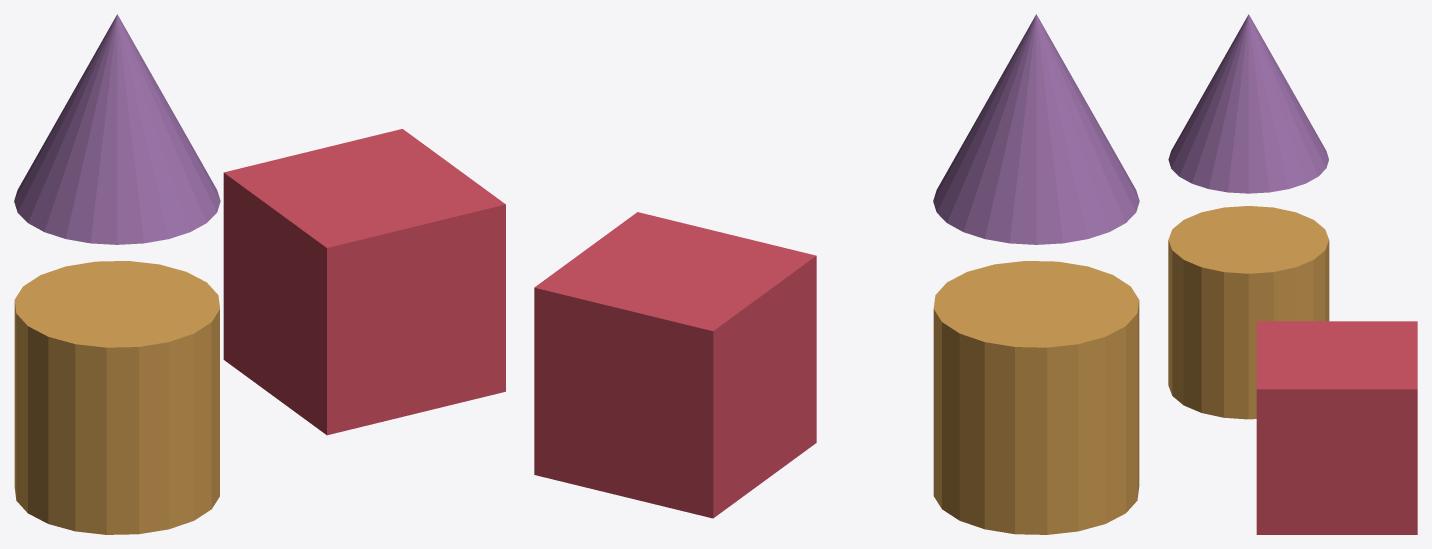
The model's file is asset.glb.
The picture shows the model from 3 angles, left to right: view 1: azimuth 30°, elevation 25°; view 2: azimuth 150°, elevation 25°; view 3: azimuth 270°, elevation 25°; orthographic projection. The views are drawn at different scales.
Parts seen in each view (by area): view 1: Mesh_Mesh_head_geo.001_lambert2SG.001; view 2: Mesh_Mesh_head_geo.001_lambert2SG.001; view 3: Mesh_Mesh_head_geo.001_lambert2SG.001.
Part boxes in pixels (x1,y1,x2,y2): Mesh_Mesh_head_geo.001_lambert2SG.001: (14, 14, 505, 534); Mesh_Mesh_head_geo.001_lambert2SG.001: (534, 14, 1139, 534); Mesh_Mesh_head_geo.001_lambert2SG.001: (1168, 14, 1417, 534).
Bounding box in the file's own units: 54 × 51 × 31.
